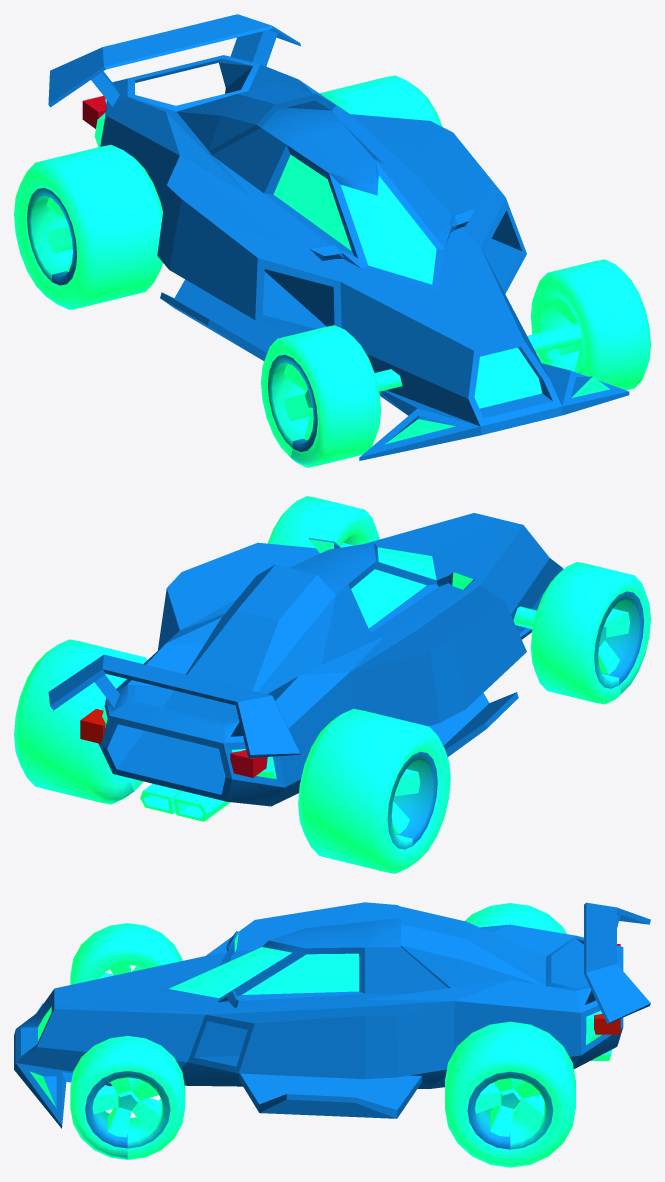
Rendered from ToyCar-blue.glb.
3 views of the same model, one above another, from view 1: azimuth 30°, elevation 25°; view 2: azimuth 150°, elevation 25°; view 3: azimuth 270°, elevation 25° (orthographic). The views are drawn at different scales.
Visible parts, largest first — view 1: Formula, RR_wheel, FR_wheel, FL_wheel, RL_wheel; view 2: Formula, RR_wheel, FR_wheel, RL_wheel, FL_wheel, BreakLight_R, BreakLight_L; view 3: Formula, RL_wheel, FL_wheel, FR_wheel, RR_wheel, BreakLight_L.
Boxes of the visible parts, <box> form: Formula: <box>48,14,629,460</box>; RR_wheel: <box>14,145,162,309</box>; FR_wheel: <box>261,325,380,467</box>; FL_wheel: <box>530,259,650,390</box>; RL_wheel: <box>320,75,442,126</box>; Formula: <box>48,513,563,821</box>; RR_wheel: <box>298,708,450,873</box>; FR_wheel: <box>530,562,650,704</box>; RL_wheel: <box>14,639,147,804</box>; FL_wheel: <box>267,496,379,548</box>; BreakLight_R: <box>230,749,267,777</box>; BreakLight_L: <box>80,709,105,743</box>; Formula: <box>14,902,650,1128</box>; RL_wheel: <box>445,1021,575,1167</box>; FL_wheel: <box>70,1036,185,1159</box>; FR_wheel: <box>70,923,182,984</box>; RR_wheel: <box>465,903,566,933</box>; BreakLight_L: <box>594,1014,620,1034</box>.
Size of the model in its own units: 2.23 by 1.2 by 3.87.
